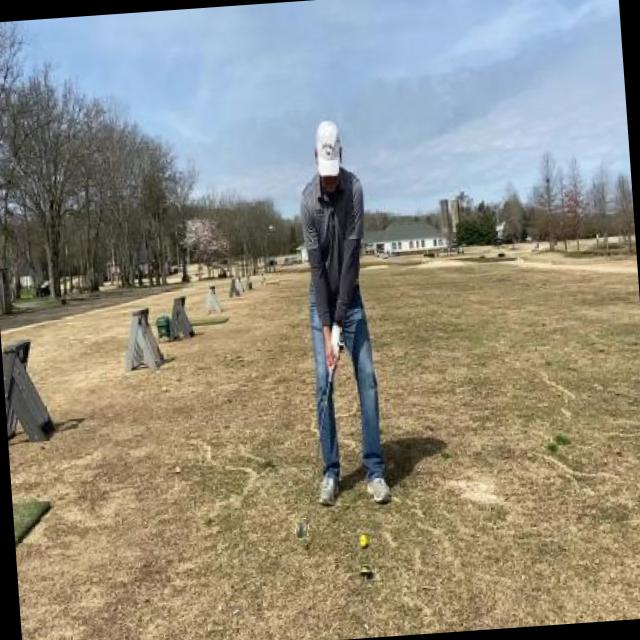club head: (294, 518, 309, 540)
